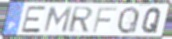E: (20, 6, 47, 34)
F: (91, 7, 118, 34)
M: (42, 6, 74, 33)
Q: (116, 6, 141, 35), (141, 7, 163, 35)
R: (67, 7, 94, 34)
